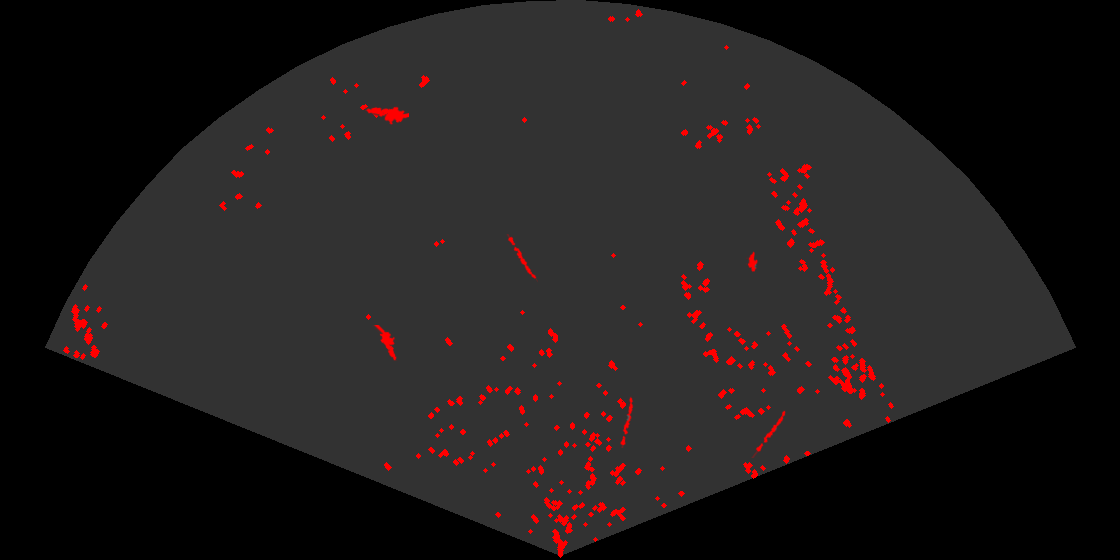AUV: (746, 250, 759, 274)
chain: (751, 409, 787, 458), (505, 234, 538, 283), (619, 396, 635, 448)
frogman: (372, 325, 399, 361), (365, 105, 409, 126)
